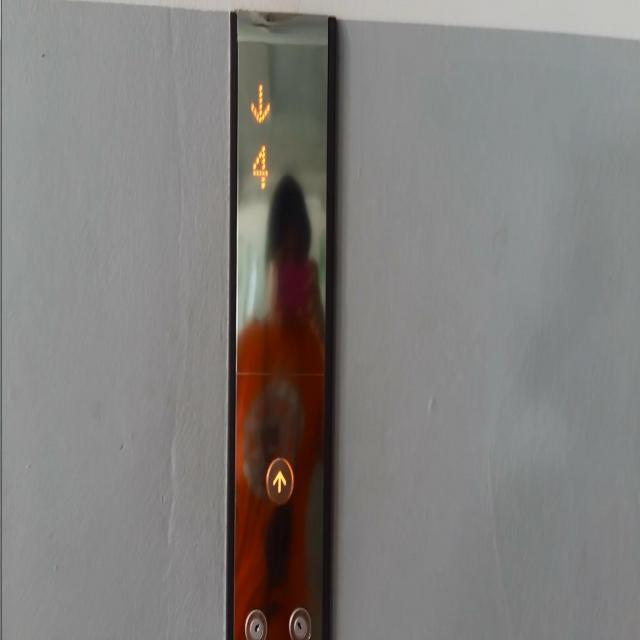keyhole: (283, 601, 314, 639), (243, 599, 268, 639)
up: (265, 448, 293, 512)
